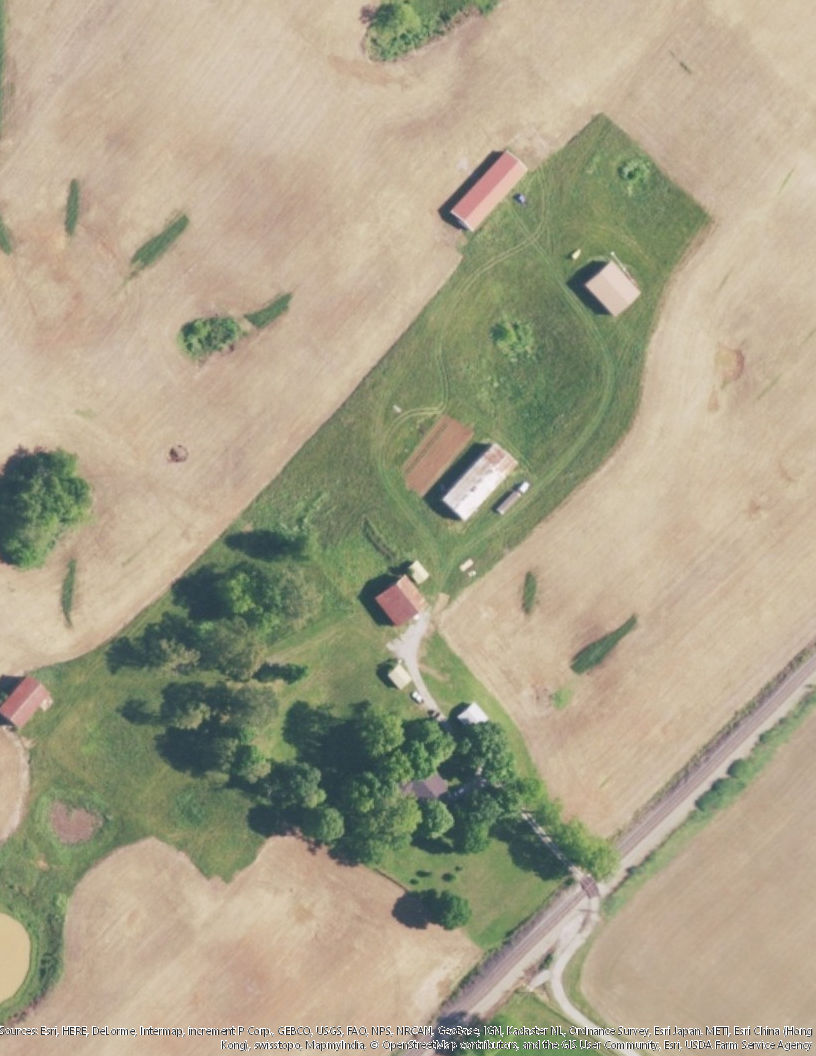cafo: (439, 438, 519, 527)
